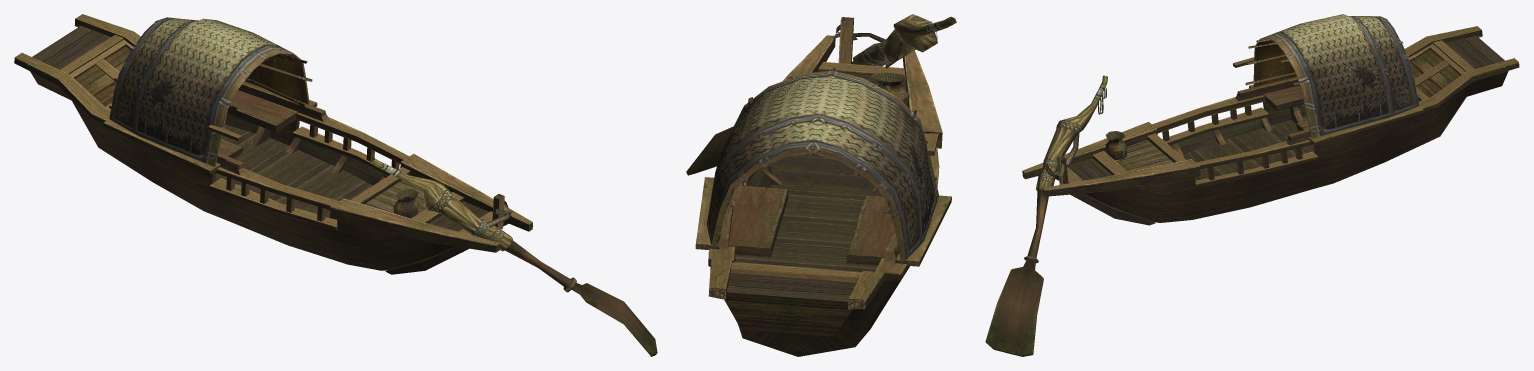
File: 7001_Item_chuan_3.FBX
The picture shows the model from 3 angles, left to right: view 1: azimuth 30°, elevation 25°; view 2: azimuth 150°, elevation 25°; view 3: azimuth 270°, elevation 25°; orthographic projection. The views are drawn at different scales.
Parts seen in each view (by area): view 1: 7001_Item_chuan_3; view 2: 7001_Item_chuan_3; view 3: 7001_Item_chuan_3.
Part boxes in pixels (x1,y1,x2,y2): 7001_Item_chuan_3: [14, 14, 657, 356]; 7001_Item_chuan_3: [686, 14, 956, 356]; 7001_Item_chuan_3: [985, 14, 1519, 356].
Bounding box in the file's own units: 1017 × 633 × 1390.
